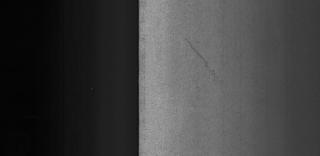water spot: (183, 36, 225, 84)
